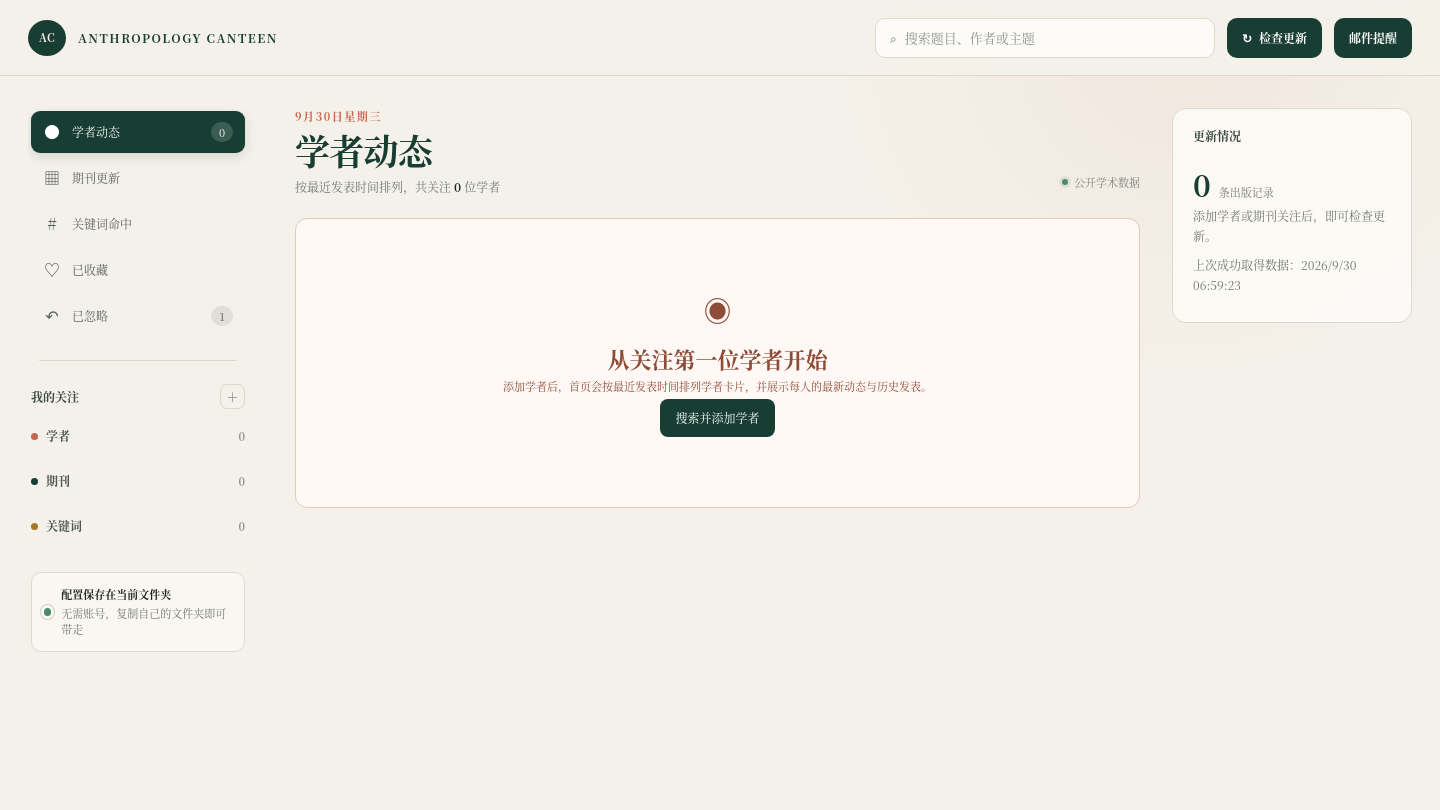
article recovery › restores an archived ignored article after the feed cache no longer has it
Click the button "↶ 已忽略 1": x=138, y=316 [31, 295, 245, 337]
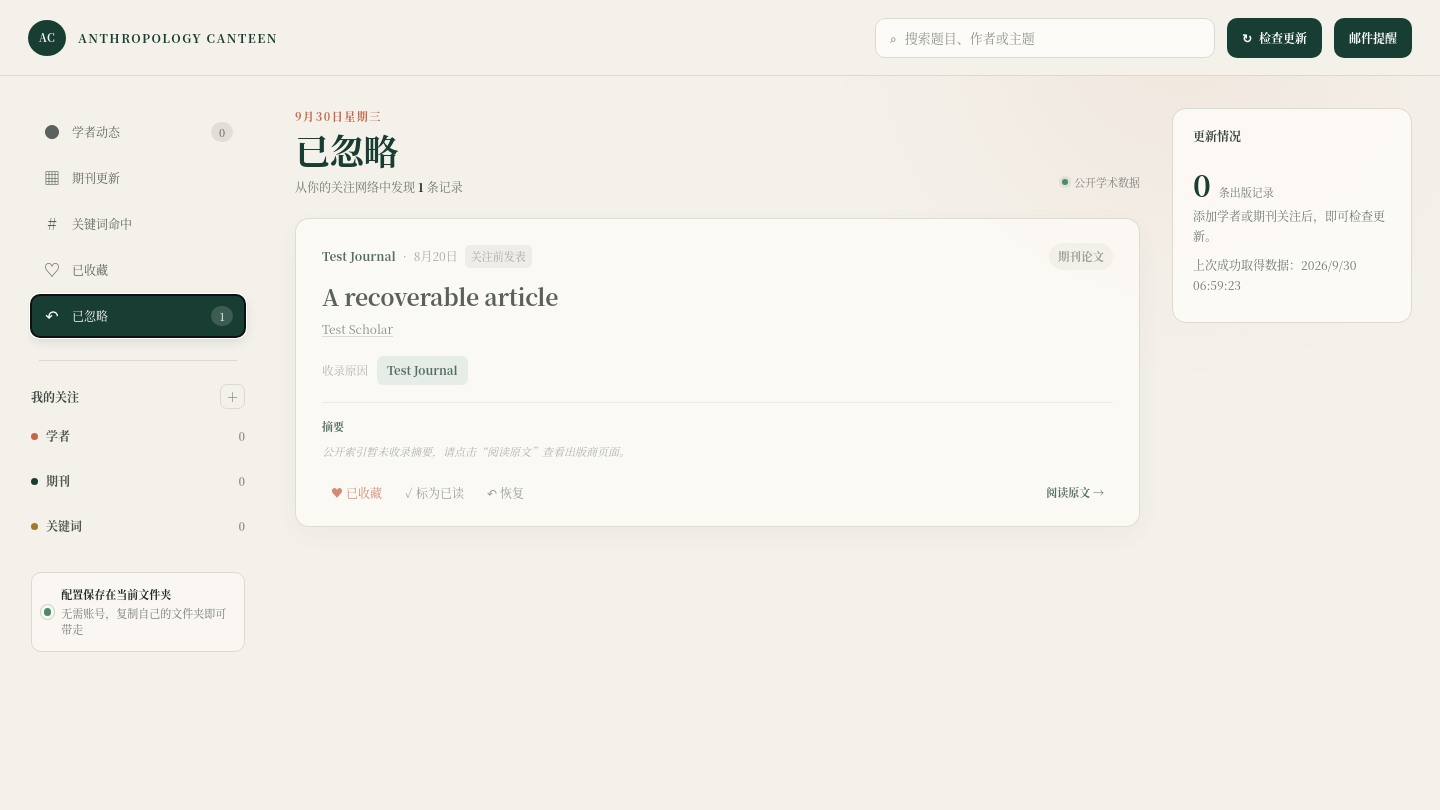
Check: the heading "A recoverable article" is shown, box [322, 280, 558, 313]
Click the button "↶ 恢复": x=505, y=493 [478, 478, 533, 508]
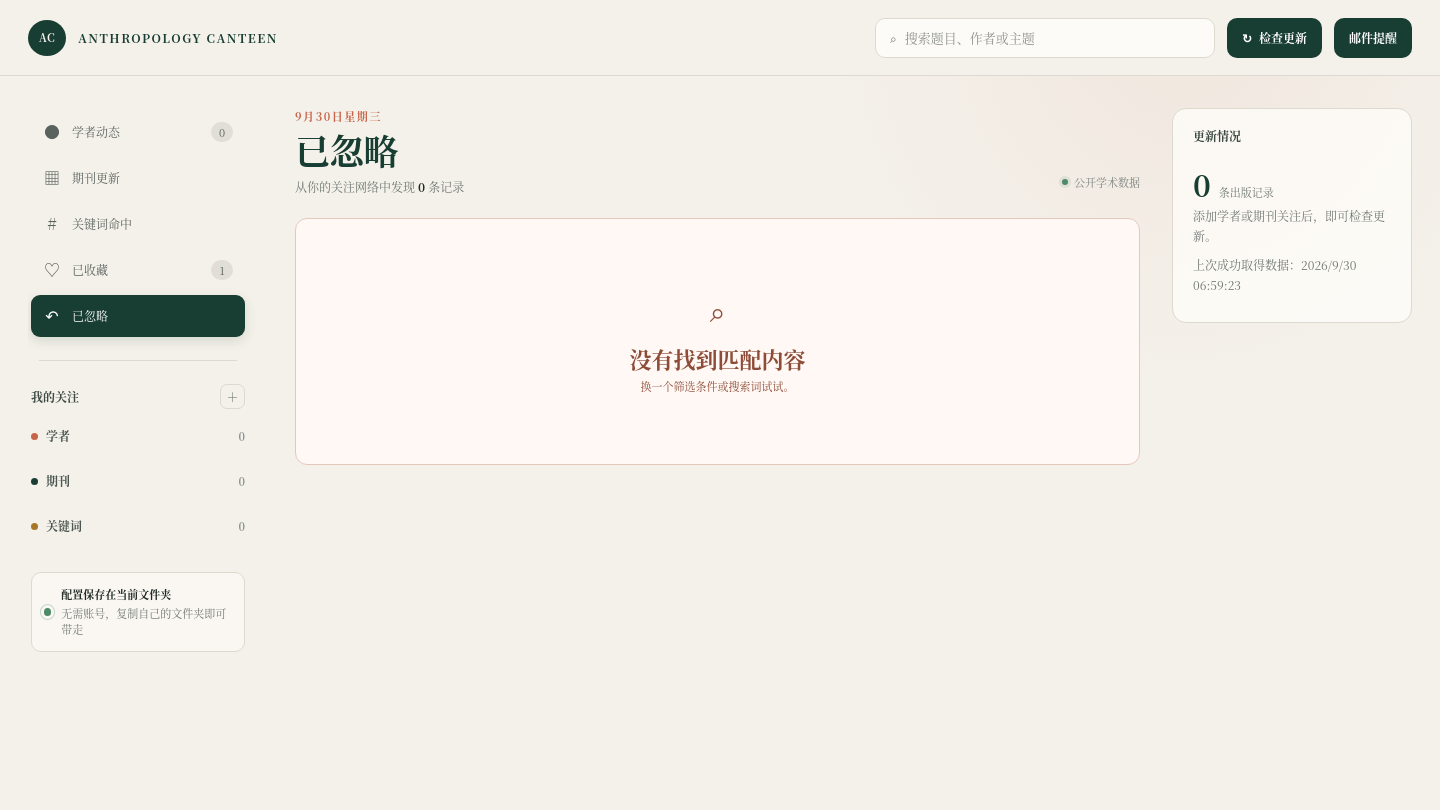
Click the button "♡ 已收藏 1": x=138, y=270 [31, 249, 245, 291]
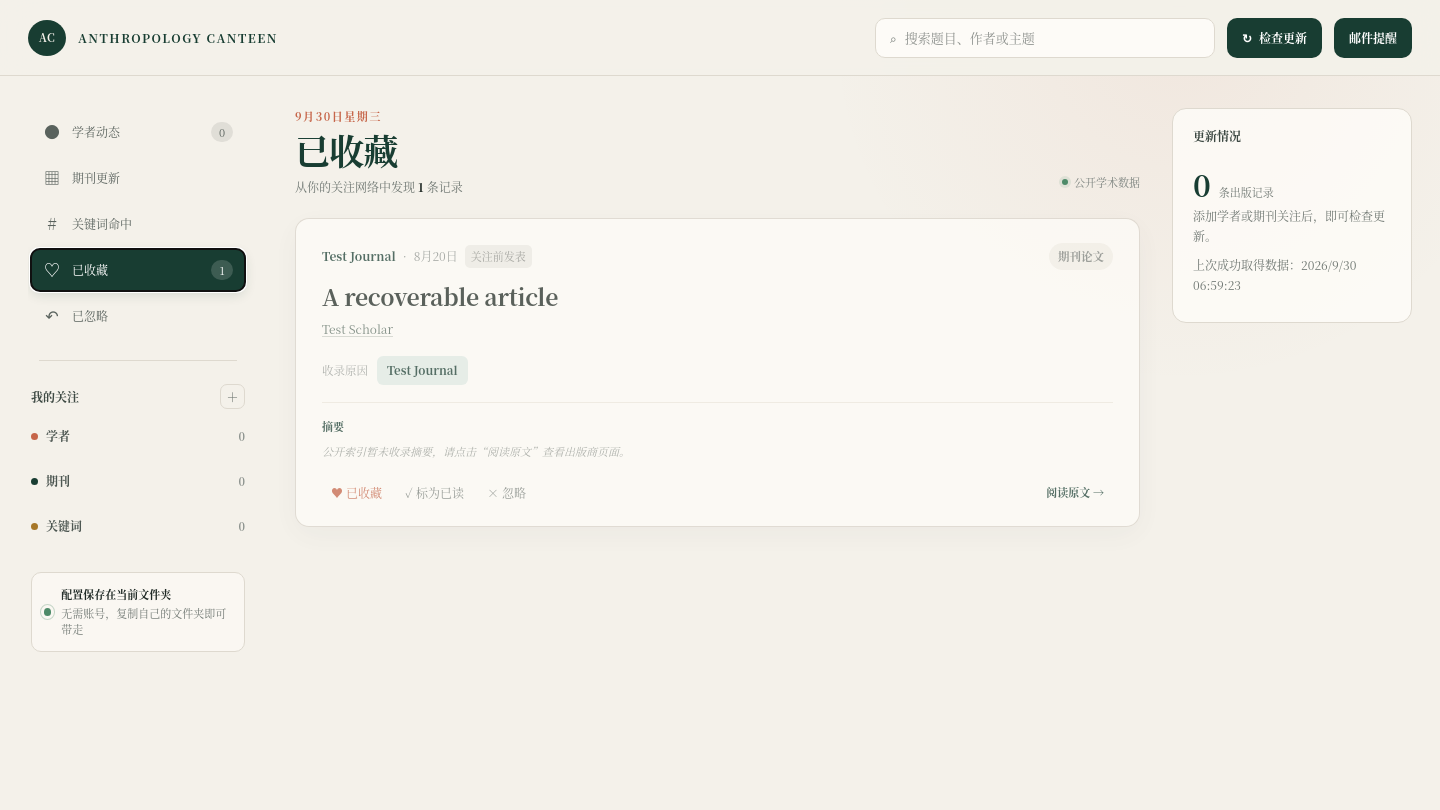
Check: the heading "A recoverable article" is shown, box [322, 280, 558, 313]
